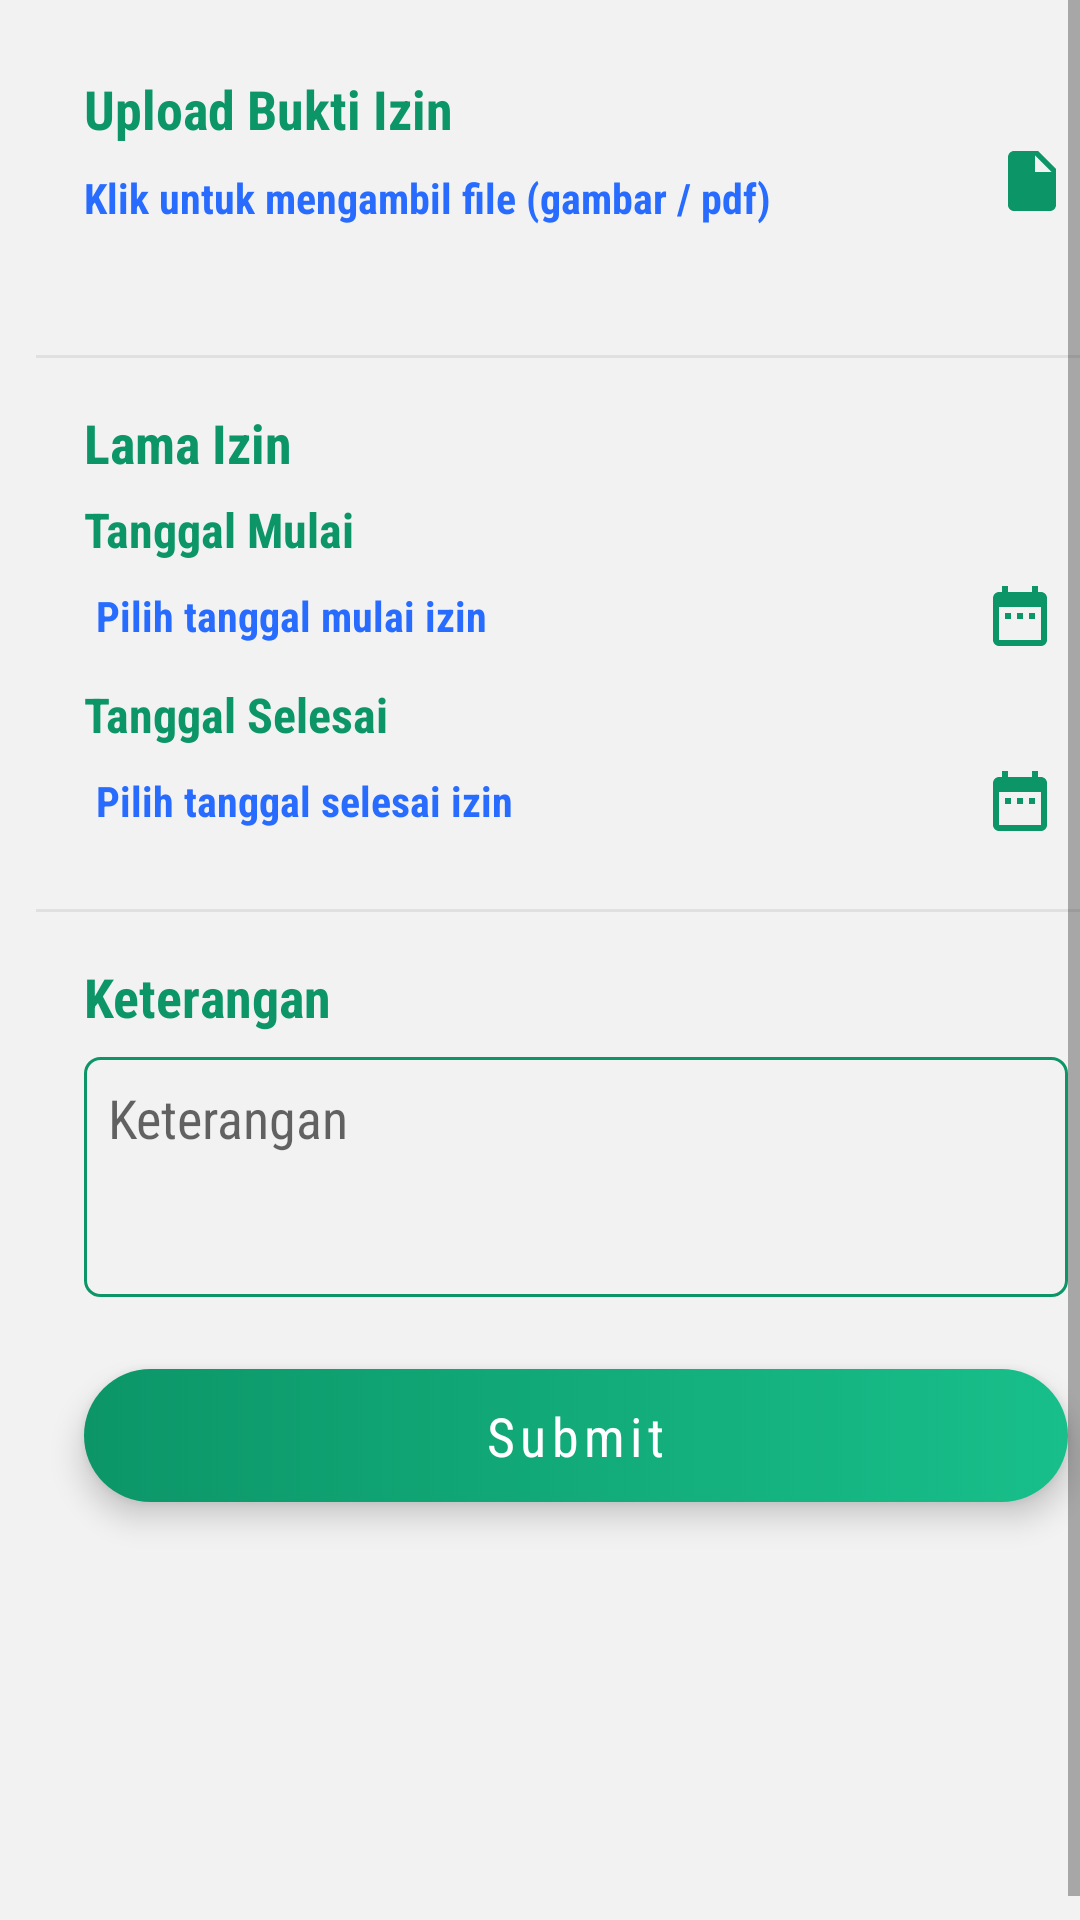

Locate icon controls on the screen. Image size 1080*1920, boxes as (x1, y1, x2, y2).
date range: (993, 586, 1047, 646), (993, 771, 1047, 831)
file: (1008, 151, 1056, 211)
